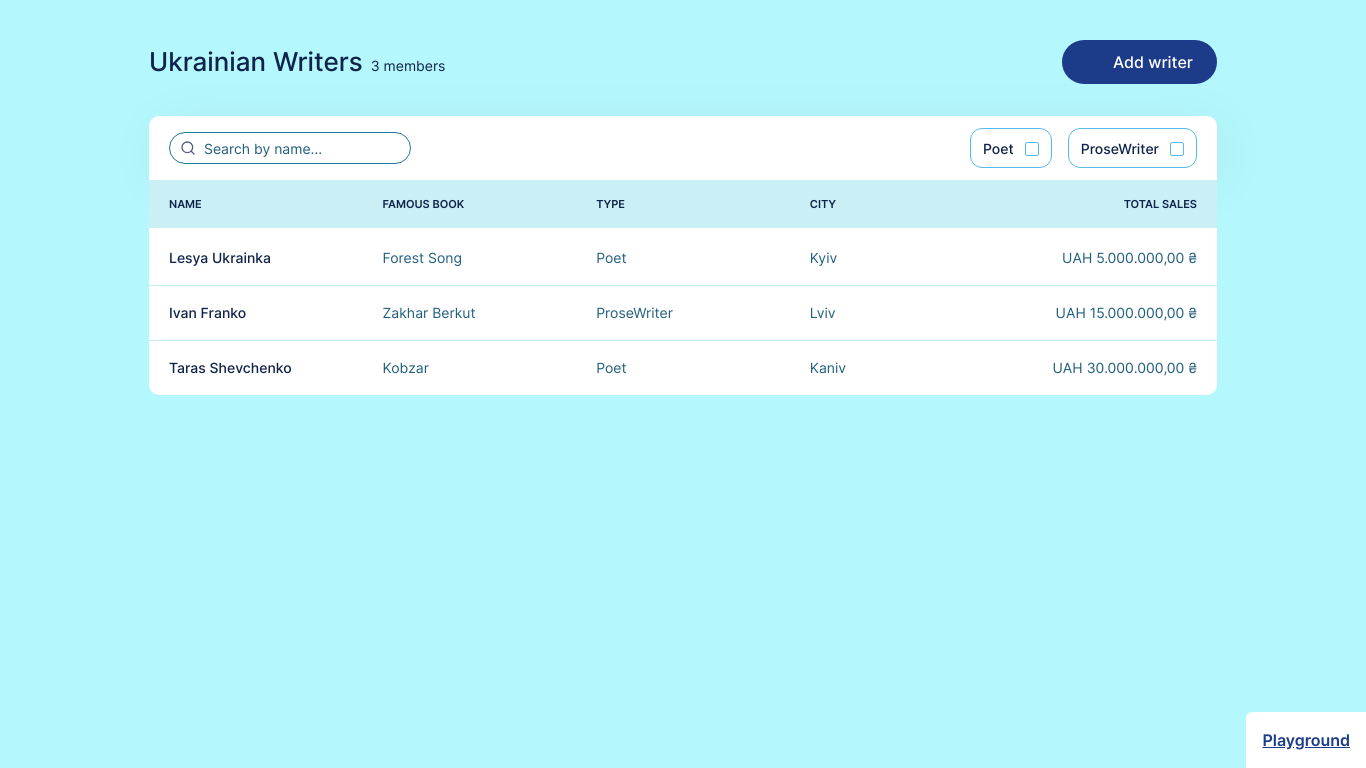
Test: PeoplePage › PeoplePage search and filter behaviour › should filter the table by employmet prosewriter
Click the checkbox named "Filter by prosewriter" at (1177, 148), box [1170,142,1184,156]
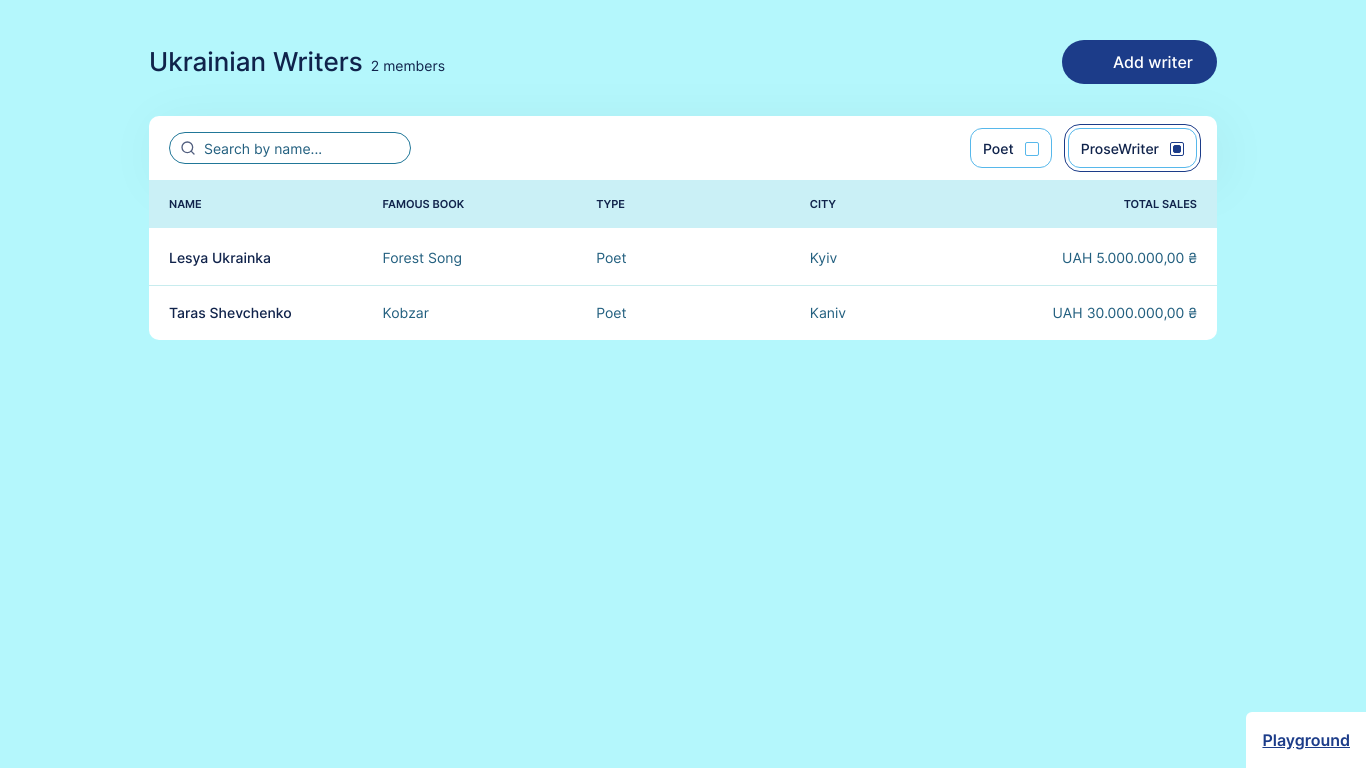
Check: the number of rows is 3, box [149,180,1217,230]; [149,230,1217,285]; [149,285,1217,340]
Check: the text "Ivan Franko" is gone
